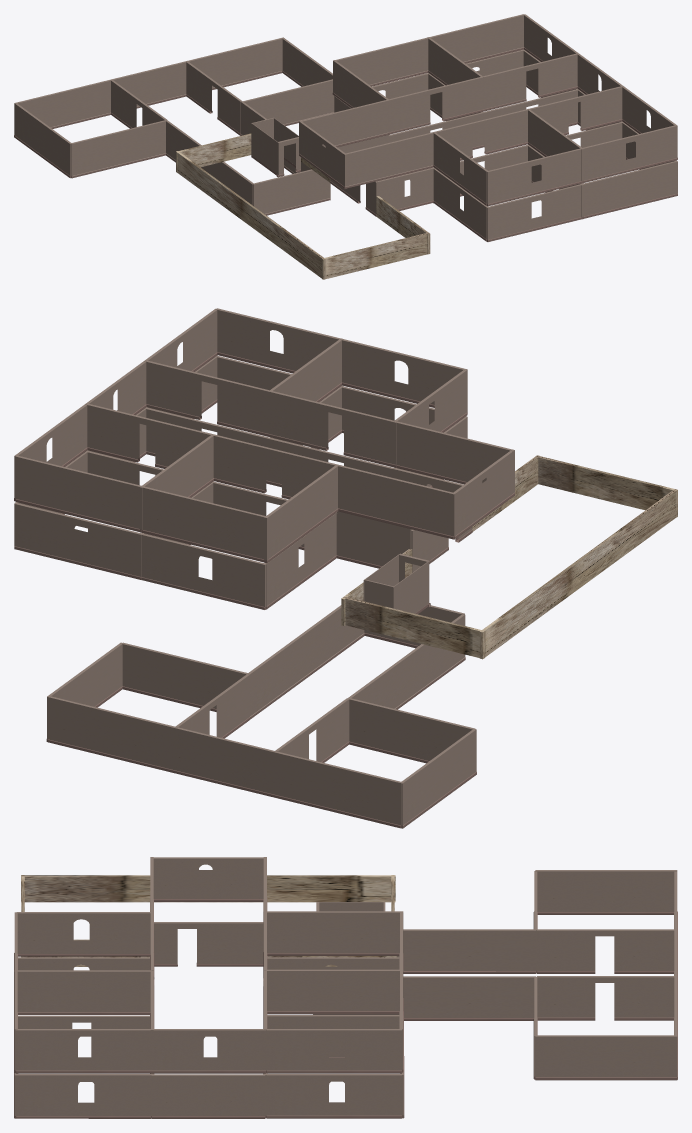
The model's file is Walls.fbx.
3 renders of one model, top to bottom at view 1: azimuth 30°, elevation 25°; view 2: azimuth 150°, elevation 25°; view 3: azimuth 270°, elevation 25°, orthographic. The views are drawn at different scales.
Visible parts, largest first — view 1: wall; view 2: wall; view 3: wall.
Part boxes in pixels (x1,y1,x2,y2): wall: (14, 14, 677, 279); wall: (14, 308, 677, 828); wall: (14, 857, 677, 1118).
Size of the model in its own units: 20277 by 5029 by 22797.
